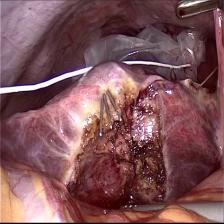Grasper: (174, 1, 224, 22)
Irrigator: (115, 197, 150, 222)
Specimen Bag: (82, 25, 208, 83)
